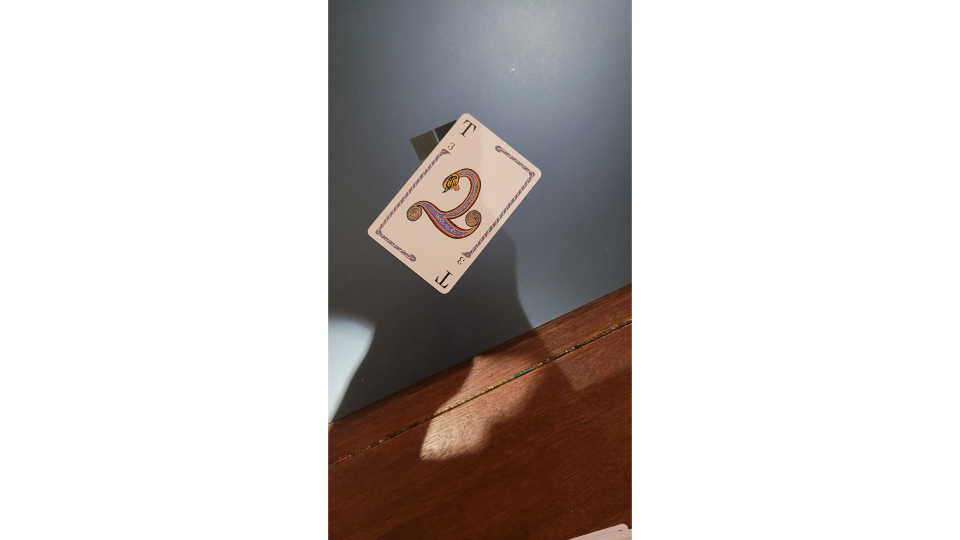T: (365, 110, 546, 297)
